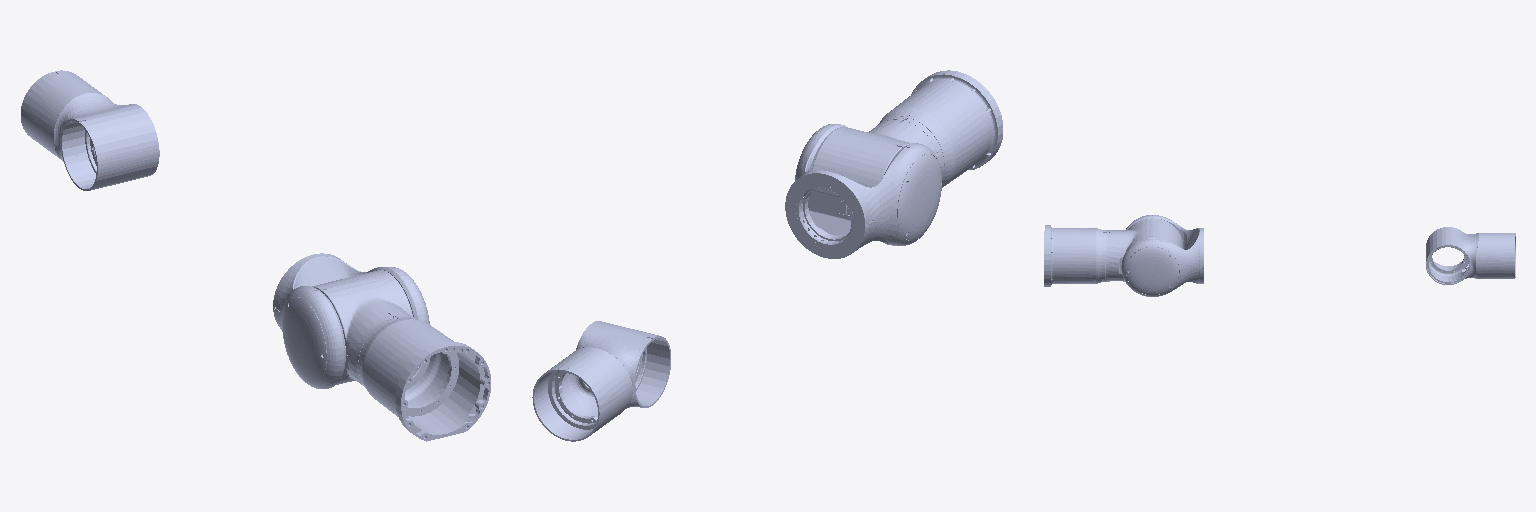
robot.urdf — right_arm:
<?xml version='1.0' encoding='utf-8'?>
<robot name="right_arm">
  <link name="world" />
  <link name="right_base_link">
    <inertial>
      <origin rpy="0 0 0" xyz="-0.00008820 -0.00038610 0.06184223" />
      <mass value="1.52097968" />
      <inertia ixx="0.00236033" ixy="0.00000938" ixz=" 0.00001521" iyy="0.00236054" iyz="0.00002150" izz="0.00235699" />
    </inertial>
    <visual>
      <origin rpy="0 0 0" xyz="0 0 0" />
      <geometry>
        <mesh filename="package://meshes/right_base_link.STL" />
      </geometry>
      <material name="">
        <color rgba="0.792156862745098 0.819607843137255 0.933333333333333 1" />
      </material>
    </visual>
    <collision>
      <origin rpy="0 0 0" xyz="0 0 0" />
      <geometry>
        <mesh filename="package://meshes/right_base_link.STL" />
      </geometry>
    </collision>
  </link>
  <link name="right_j1_Link">
    <inertial>
      <origin rpy="0 0 0" xyz=" 0.00000829 0.00244409 -0.02871310" />
      <mass value="2.47278909" />
      <inertia ixx="0.00811676" ixy="0.00000215" ixz="-0.00000452" iyy="0.00792991" iyz="0.00017343" izz="0.00374035" />
    </inertial>
    <visual>
      <origin rpy="0 0 0" xyz="0 0 0" />
      <geometry>
        <mesh filename="package://meshes/right_j1_Link.STL" />
      </geometry>
      <material name="">
        <color rgba="0.792156862745098 0.819607843137255 0.933333333333333 1" />
      </material>
    </visual>
    <collision>
      <origin rpy="0 0 0" xyz="0 0 0" />
      <geometry>
        <mesh filename="package://meshes/right_j1_Link.STL" />
      </geometry>
    </collision>
  </link>
  <link name="right_j2_Link">
    <inertial>
      <origin rpy="0 0 0" xyz="-0.00001066 0.03722263 -0.01797017" />
      <mass value="1.41019774" />
      <inertia ixx="0.00596565" ixy="0.00000102" ixz="0.00000029" iyy="0.00274196" iyz="0.00096784" izz="0.00467860" />
    </inertial>
    <visual>
      <origin rpy="0 0 0" xyz="0 0 0" />
      <geometry>
        <mesh filename="package://meshes/right_j2_Link.STL" />
      </geometry>
      <material name="">
        <color rgba="0.792156862745098 0.819607843137255 0.933333333333333 1" />
      </material>
    </visual>
    <collision>
      <origin rpy="0 0 0" xyz="0 0 0" />
      <geometry>
        <mesh filename="package://meshes/right_j2_Link.STL" />
      </geometry>
    </collision>
  </link>
  <link name="right_j3_Link">
    <inertial>
      <origin rpy="0 0 0" xyz="0.00883026 0.00178965 -0.06470772" />
      <mass value="3.09939936" />
      <inertia ixx="0.01707605" ixy="0.00005749" ixz=" 0.00183527" iyy="0.01721916" iyz="0.00032649" izz="0.00456819" />
    </inertial>
    <visual>
      <origin rpy="0 0 0" xyz="0 0 0" />
      <geometry>
        <mesh filename="package://meshes/right_j3_Link.STL" />
      </geometry>
      <material name="">
        <color rgba="0.792156862745098 0.819607843137255 0.933333333333333 1" />
      </material>
    </visual>
    <collision>
      <origin rpy="0 0 0" xyz="0 0 0" />
      <geometry>
        <mesh filename="package://meshes/right_j3_Link.STL" />
      </geometry>
    </collision>
  </link>
  <link name="right_j4_Link">
    <inertial>
      <origin rpy="0 0 0" xyz="-0.00971323 0.03818436 -0.00798875" />
      <mass value="0.98368730" />
      <inertia ixx="0.00339258" ixy="-0.00037292" ixz="-0.00007746" iyy="0.00197076" iyz="0.00030620" izz="0.00242521" />
    </inertial>
    <visual>
      <origin rpy="0 0 0" xyz="0 0 0" />
      <geometry>
        <mesh filename="package://meshes/right_j4_Link.STL" />
      </geometry>
      <material name="">
        <color rgba="0.792156862745098 0.819607843137255 0.933333333333333 1" />
      </material>
    </visual>
    <collision>
      <origin rpy="0 0 0" xyz="0 0 0" />
      <geometry>
        <mesh filename="package://meshes/right_j4_Link.STL" />
      </geometry>
    </collision>
  </link>
  <link name="right_j5_Link">
    <inertial>
      <origin rpy="0 0 0" xyz="-0.00002916 0.00651937 -0.09265504" />
      <mass value=" 1.45243657" />
      <inertia ixx="0.00706280" ixy="0.00000071" ixz="-0.00000147" iyy="0.00641601" iyz="0.00095795" izz="0.00205038" />
    </inertial>
    <visual>
      <origin rpy="0 0 0" xyz="0 0 0" />
      <geometry>
        <mesh filename="package://meshes/right_j5_Link.STL" />
      </geometry>
      <material name="">
        <color rgba="0.792156862745098 0.819607843137255 0.933333333333333 1" />
      </material>
    </visual>
    <collision>
      <origin rpy="0 0 0" xyz="0 0 0" />
      <geometry>
        <mesh filename="package://meshes/right_j5_Link.STL" />
      </geometry>
    </collision>
  </link>
  <link name="right_j6_Link">
    <inertial>
      <origin rpy="0 0 0" xyz=" -0.00085791 -0.04359160 0.00242243" />
      <mass value="1.79923073" />
      <inertia ixx="0.00549869" ixy="-0.00000933" ixz="0.00000896" iyy="0.00194083" iyz="0.00017593" izz="0.00523894" />
    </inertial>
    <visual>
      <origin rpy="0 0 0" xyz="0 0 0" />
      <geometry>
        <mesh filename="package://meshes/right_j6_Link.STL" />
      </geometry>
      <material name="">
        <color rgba="0.792156862745098 0.819607843137255 0.933333333333333 1" />
      </material>
    </visual>
    <collision>
      <origin rpy="0 0 0" xyz="0 0 0" />
      <geometry>
        <mesh filename="package://meshes/right_j6_Link.STL" />
      </geometry>
    </collision>
  </link>
  <link name="right_j7_Link">
    <inertial>
      <origin rpy="0 0 0" xyz="0.00004614 -0.00011426 -0.02786989" />
      <mass value="0.35714747" />
      <inertia ixx="0.00018241" ixy="0.00000145" ixz="-0.00000015" iyy="0.00018443" iyz=" -0.00000032" izz="0.00021747" />
    </inertial>
    <visual>
      <origin rpy="0 0 0" xyz="0 0 0" />
      <geometry>
        <mesh filename="package://meshes/right_j7_Link.STL" />
      </geometry>
      <material name="">
        <color rgba="0.792156862745098 0.819607843137255 0.933333333333333 1" />
      </material>
    </visual>
    <collision>
      <origin rpy="0 0 0" xyz="0 0 0" />
      <geometry>
        <mesh filename="package://meshes/right_j7_Link.STL" />
      </geometry>
    </collision>
  </link>
  <joint name="right_j1_joint" type="revolute">
    <origin rpy="0 0 0" xyz="0 0 0.195" />
    <parent link="right_base_link" />
    <child link="right_j1_Link" />
    <axis xyz="0 0 1" />
    <limit effort="0" lower="-3.14" upper="3.14" velocity="0" />
  </joint>
  <joint name="right_j2_joint" type="revolute">
    <origin rpy="1.5708 0 0" xyz="0 0 0" />
    <parent link="right_j1_Link" />
    <child link="right_j2_Link" />
    <axis xyz="0 0 1" />
    <limit effort="0" lower="-2.093" upper="2.093" velocity="0" />
  </joint>
  <joint name="right_j3_joint" type="revolute">
    <origin rpy="-1.5708 0 0" xyz="0 0.2725 0" />
    <parent link="right_j2_Link" />
    <child link="right_j3_Link" />
    <axis xyz="0 0 1" />
    <limit effort="0" lower="-3.14" upper="3.14" velocity="0" />
  </joint>
  <joint name="right_j4_joint" type="revolute">
    <origin rpy="1.5708 0 0" xyz="0.02 0 0" />
    <parent link="right_j3_Link" />
    <child link="right_j4_Link" />
    <axis xyz="0 0 1" />
    <limit effort="0" lower="-2.5294" upper="1.046" velocity="0" />
  </joint>
  <joint name="right_j5_joint" type="revolute">
    <origin rpy="-1.5708 0 0" xyz="-0.02 0.2596 0" />
    <parent link="right_j4_Link" />
    <child link="right_j5_Link" />
    <axis xyz="0 0 1" />
    <limit effort="0" lower="-3.14" upper="3.14" velocity="0" />
  </joint>
  <joint name="right_j6_joint" type="revolute">
    <origin rpy="-1.5708 0 0" xyz="0 0 0" />
    <parent link="right_j5_Link" />
    <child link="right_j6_Link" />
    <axis xyz="0 0 1" />
    <limit effort="0" lower="-1.74" upper="1.74" velocity="0" />
  </joint>
  <joint name="right_j7_joint" type="revolute">
    <origin rpy="1.5708 0 0" xyz="0 -0.1539 0" />
    <parent link="right_j6_Link" />
    <child link="right_j7_Link" />
    <axis xyz="0 0 1" />
    <limit effort="0" lower="-3.14" upper="3.14" velocity="0" />
  </joint>
  <joint name="arm_right_base" type="fixed">
    <origin rpy="-1.57 1.57 0" xyz="0.0 0 0" />
    <parent link="world" />
    <child link="right_base_link" />
  </joint>
</robot>

--- Render facts (derived) ---
3 views of the same robot in one strip: view 1: azimuth 30°, elevation 25°; view 2: azimuth 150°, elevation 25°; view 3: azimuth 270°, elevation 25° (orthographic).
Model right_arm with 9 links and 8 joints (7 revolute, 1 fixed), rooted at world, posed every joint at zero.
Links seen in each view (by area): view 1: right_base_link, right_j6_Link, right_j2_Link, right_j1_Link; view 2: right_j2_Link, right_j6_Link, right_base_link, right_j1_Link; view 3: right_j2_Link, right_j6_Link, right_base_link, right_j1_Link.
Boxes of the visible links, x1,y1,x2,y2 form: right_base_link: (358,317,490,441); right_j6_Link: (21,70,159,190); right_j2_Link: (273,253,429,388); right_j1_Link: (312,270,430,389); right_j2_Link: (785,124,941,258); right_j6_Link: (532,321,670,441); right_base_link: (878,70,1002,187); right_j1_Link: (812,116,943,187); right_j2_Link: (1121,215,1203,296); right_j6_Link: (1426,227,1515,284); right_base_link: (1044,225,1105,286); right_j1_Link: (1106,218,1182,281).
Size in the robot's own frame: 0.1431 by 0.8486 by 0.1131 metres.
4 mesh visuals loaded from 8 distinct referenced files (4 binary STL); not drawn: 4 (reference not matched to a file when rendering).
